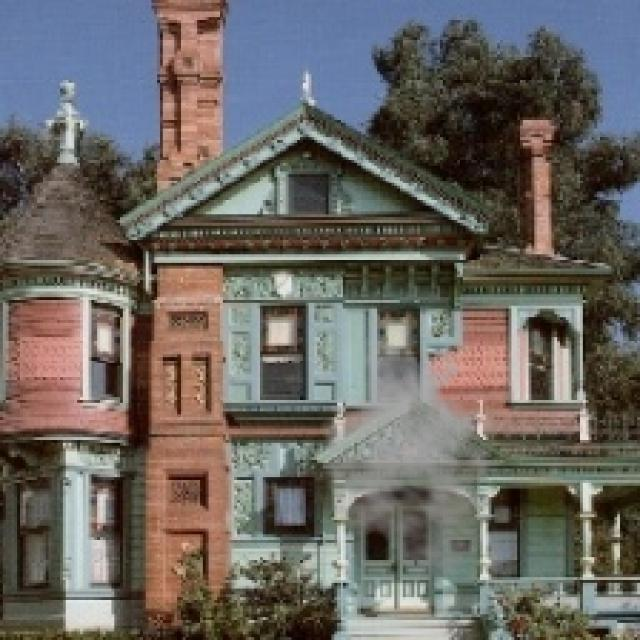Smoke: (312, 337, 514, 580)
